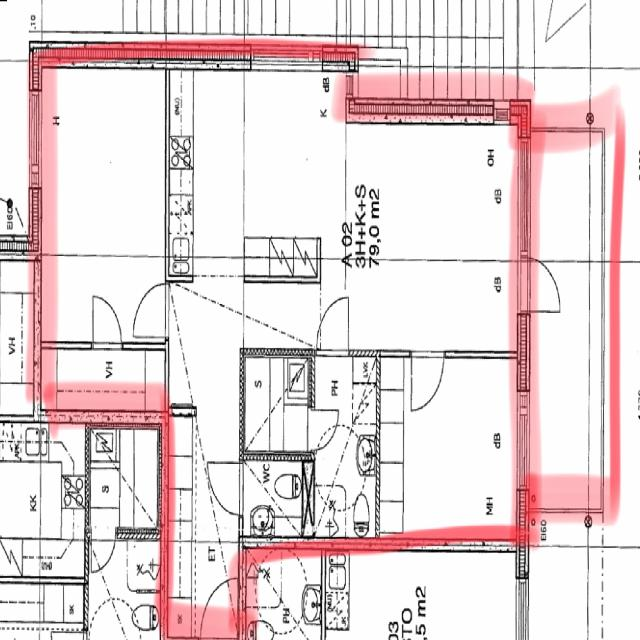door: (518, 257, 564, 311), (200, 578, 237, 640), (411, 348, 444, 409), (208, 462, 244, 515), (132, 284, 168, 336), (317, 297, 348, 356), (93, 296, 121, 349), (312, 409, 339, 448)
